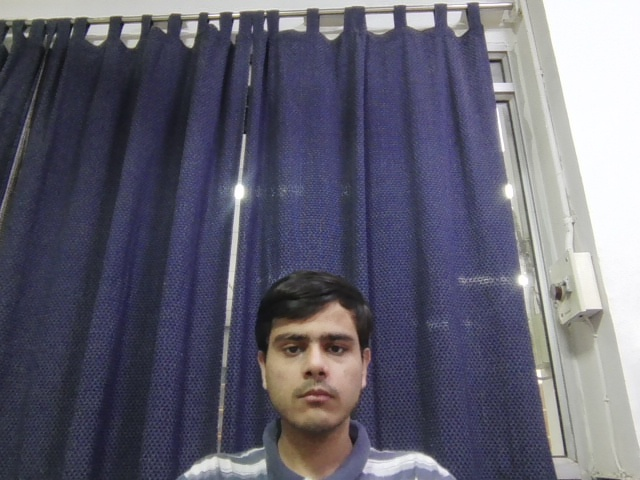face: (252, 270, 375, 431)
